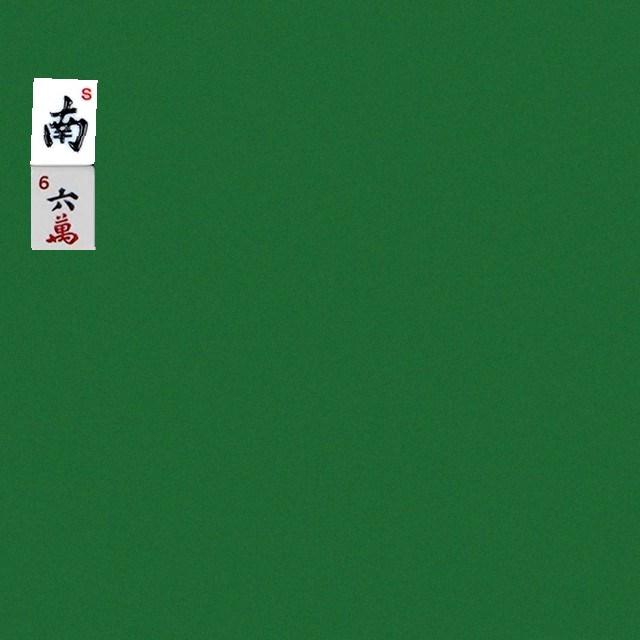tile: (30, 77, 94, 163), (30, 163, 94, 249)
